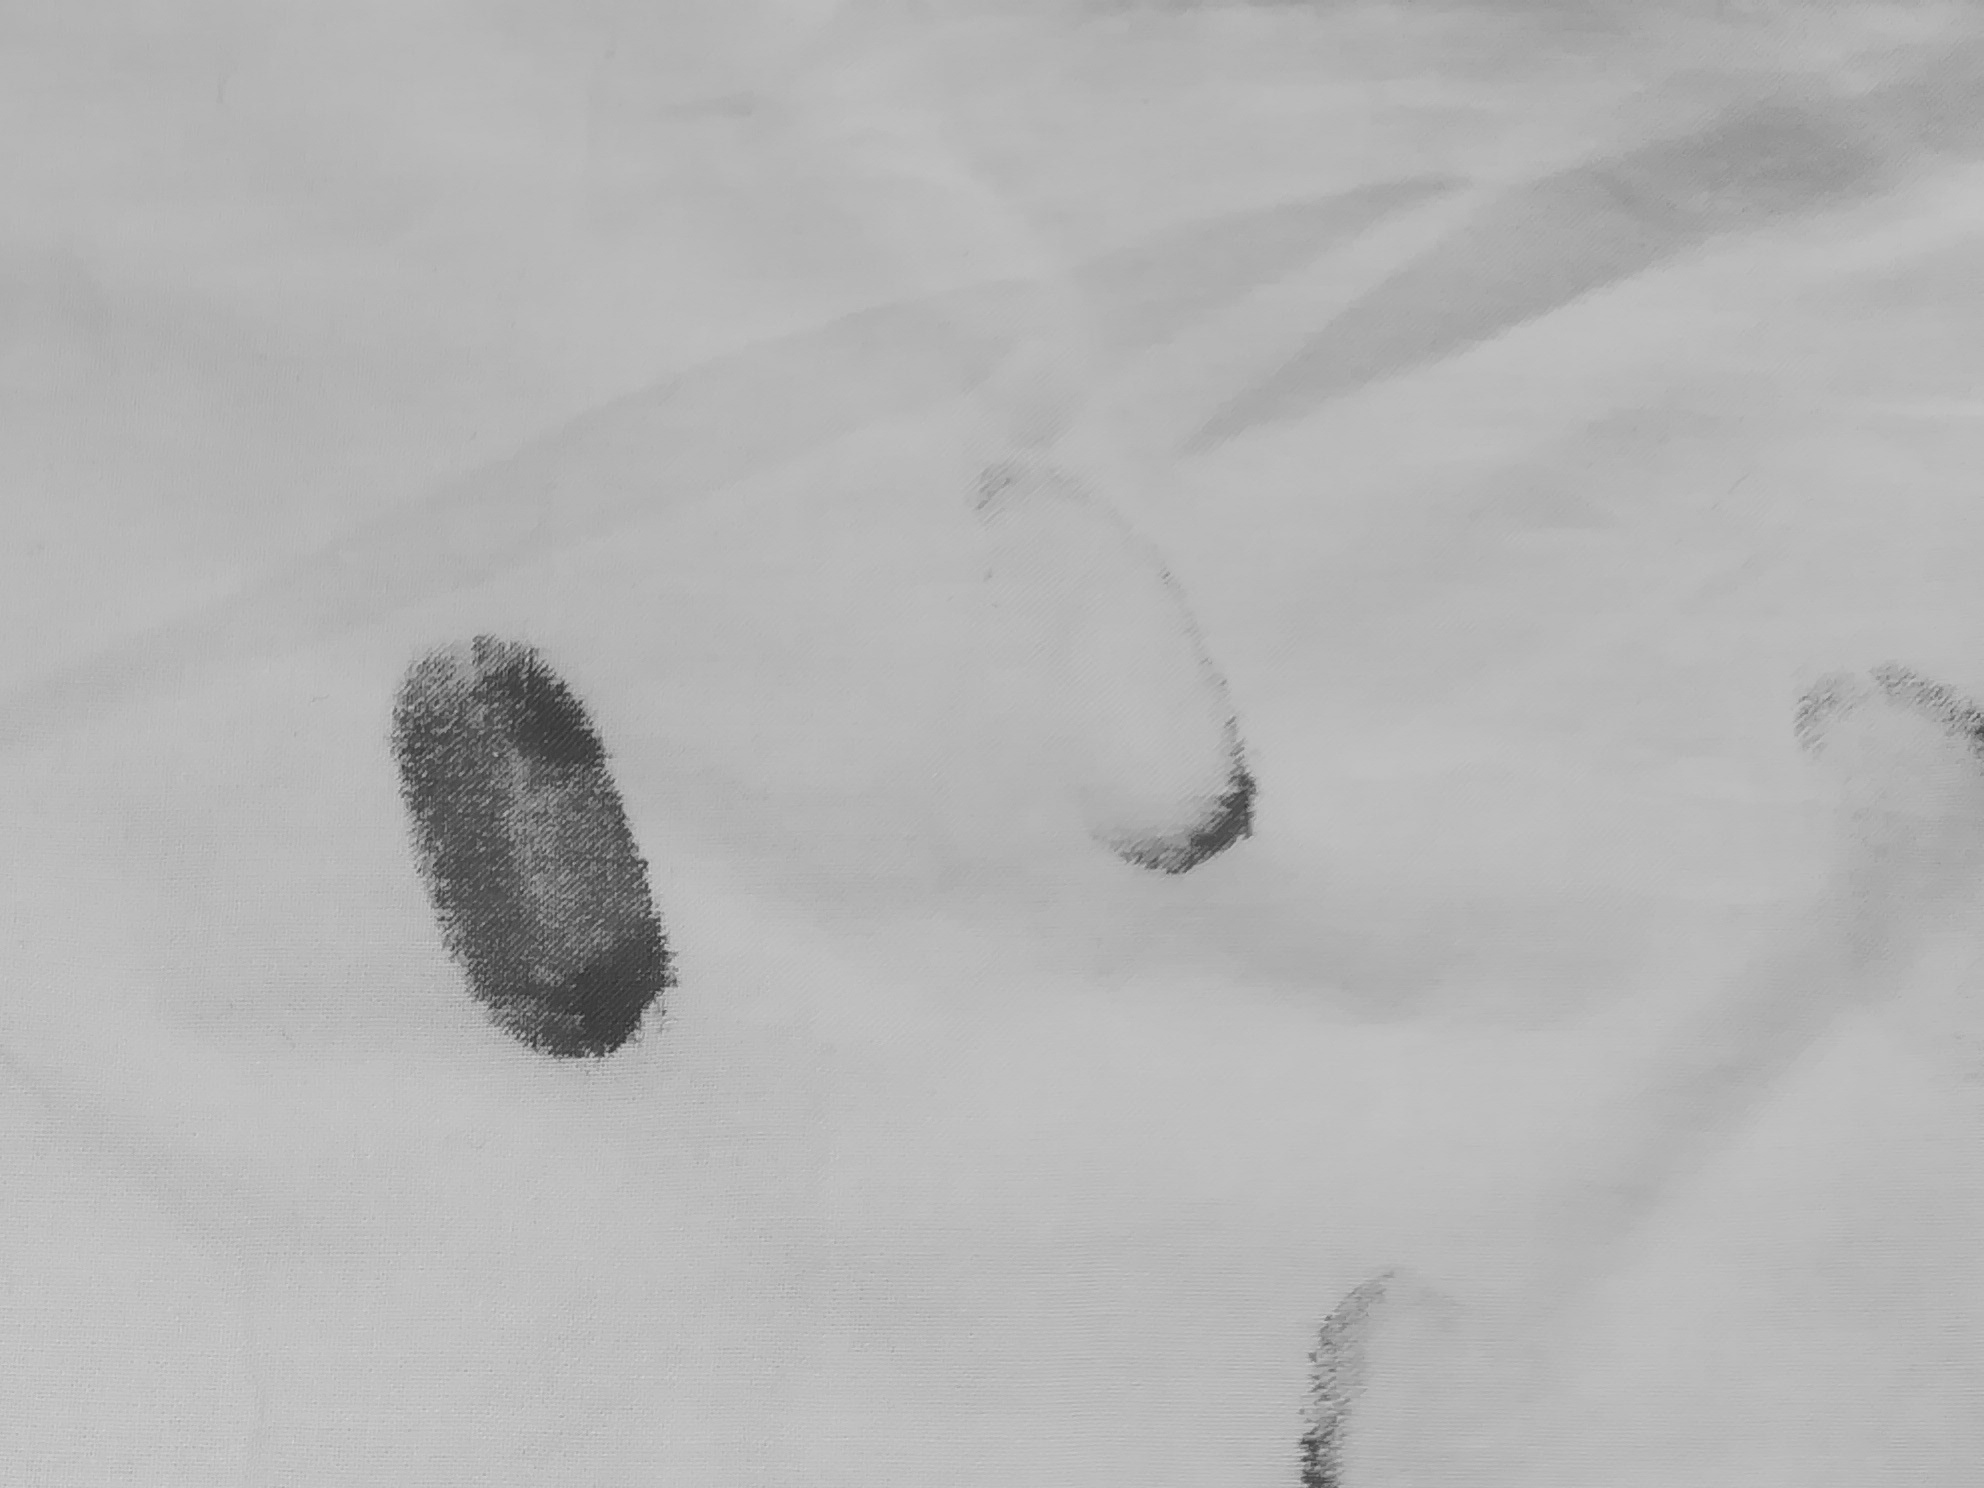Stain: (278, 596, 834, 1125), (865, 431, 1400, 964), (1211, 1225, 1561, 1488), (1739, 550, 1984, 878)
